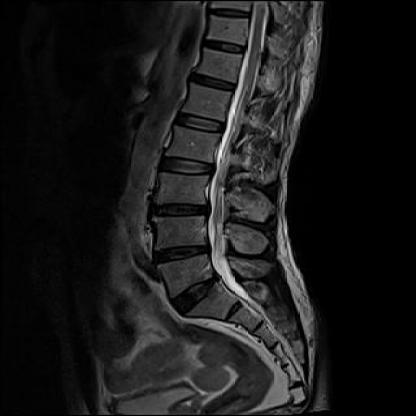Degenerative Disc Diseaserotation: (166, 280, 231, 311)
Disc Bulgerotation: (145, 195, 215, 225), (146, 242, 213, 267)
